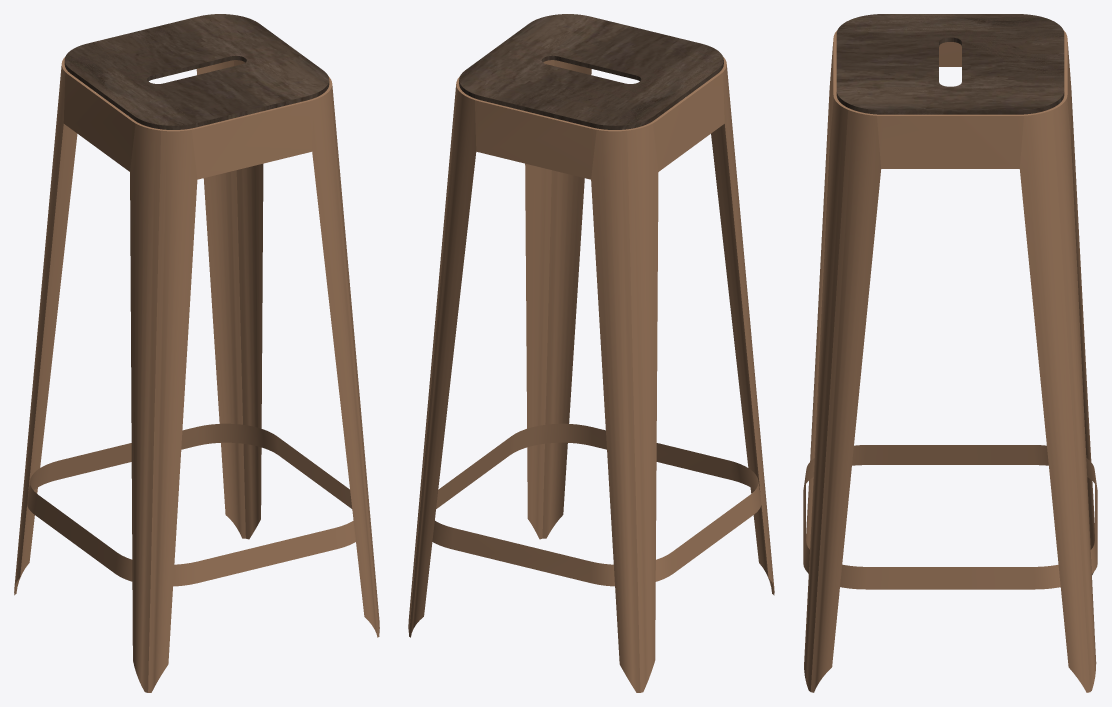
Rendered from bar-stool-brass.glb.
3 views of the same model, side by side, from view 1: azimuth 30°, elevation 25°; view 2: azimuth 150°, elevation 25°; view 3: azimuth 270°, elevation 25° (orthographic). The views are drawn at different scales.
Visible parts, largest first — view 1: Object_7, Object_6; view 2: Object_7, Object_6; view 3: Object_7, Object_6.
Boxes of the visible parts, x1,y1,x2,y2 form: Object_7: (14,56,379,692); Object_6: (64,14,329,129); Object_7: (408,56,774,692); Object_6: (459,14,723,129); Object_7: (803,30,1097,692); Object_6: (836,14,1064,114).
Bounding box in the file's own units: 0.3553 × 0.76 × 0.3553.
2 materials, 2 textured.
